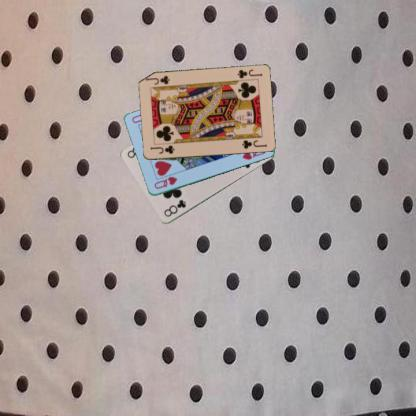8c: (161, 197, 187, 218)
Jc: (234, 67, 263, 80), (148, 143, 176, 155)
Qh: (152, 174, 178, 190)
